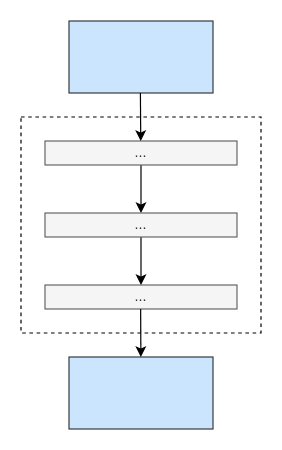
Image size: 282x450. Some labels were removed from this diagram. The shapes that lost their labels are listed below. From the top down, each one's centre as x and y in pixels, then its label:
At (x=140, y=56): "func_entry".
At (x=140, y=392): "func_exit".
